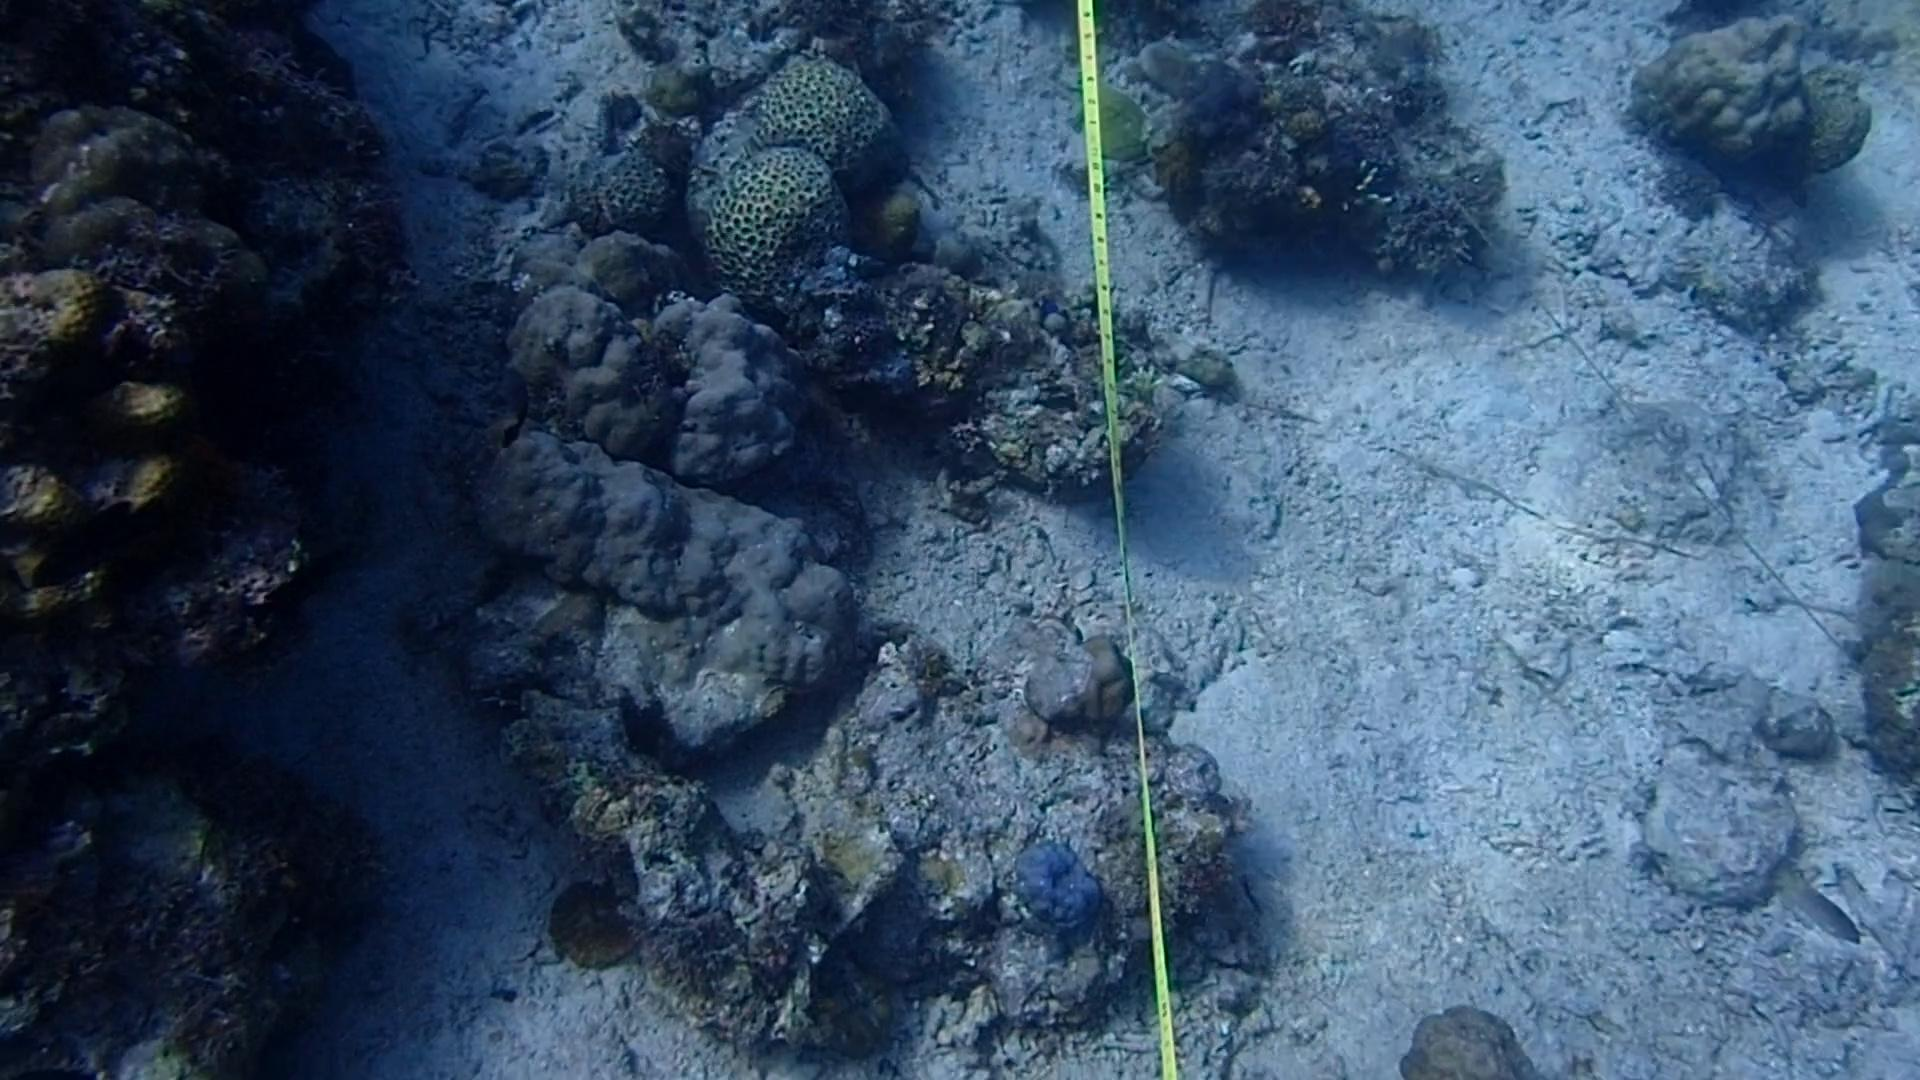Dark Fish: (21, 496, 145, 621), (13, 343, 156, 433), (473, 360, 551, 451)
Light Fish: (1771, 848, 1862, 959)
